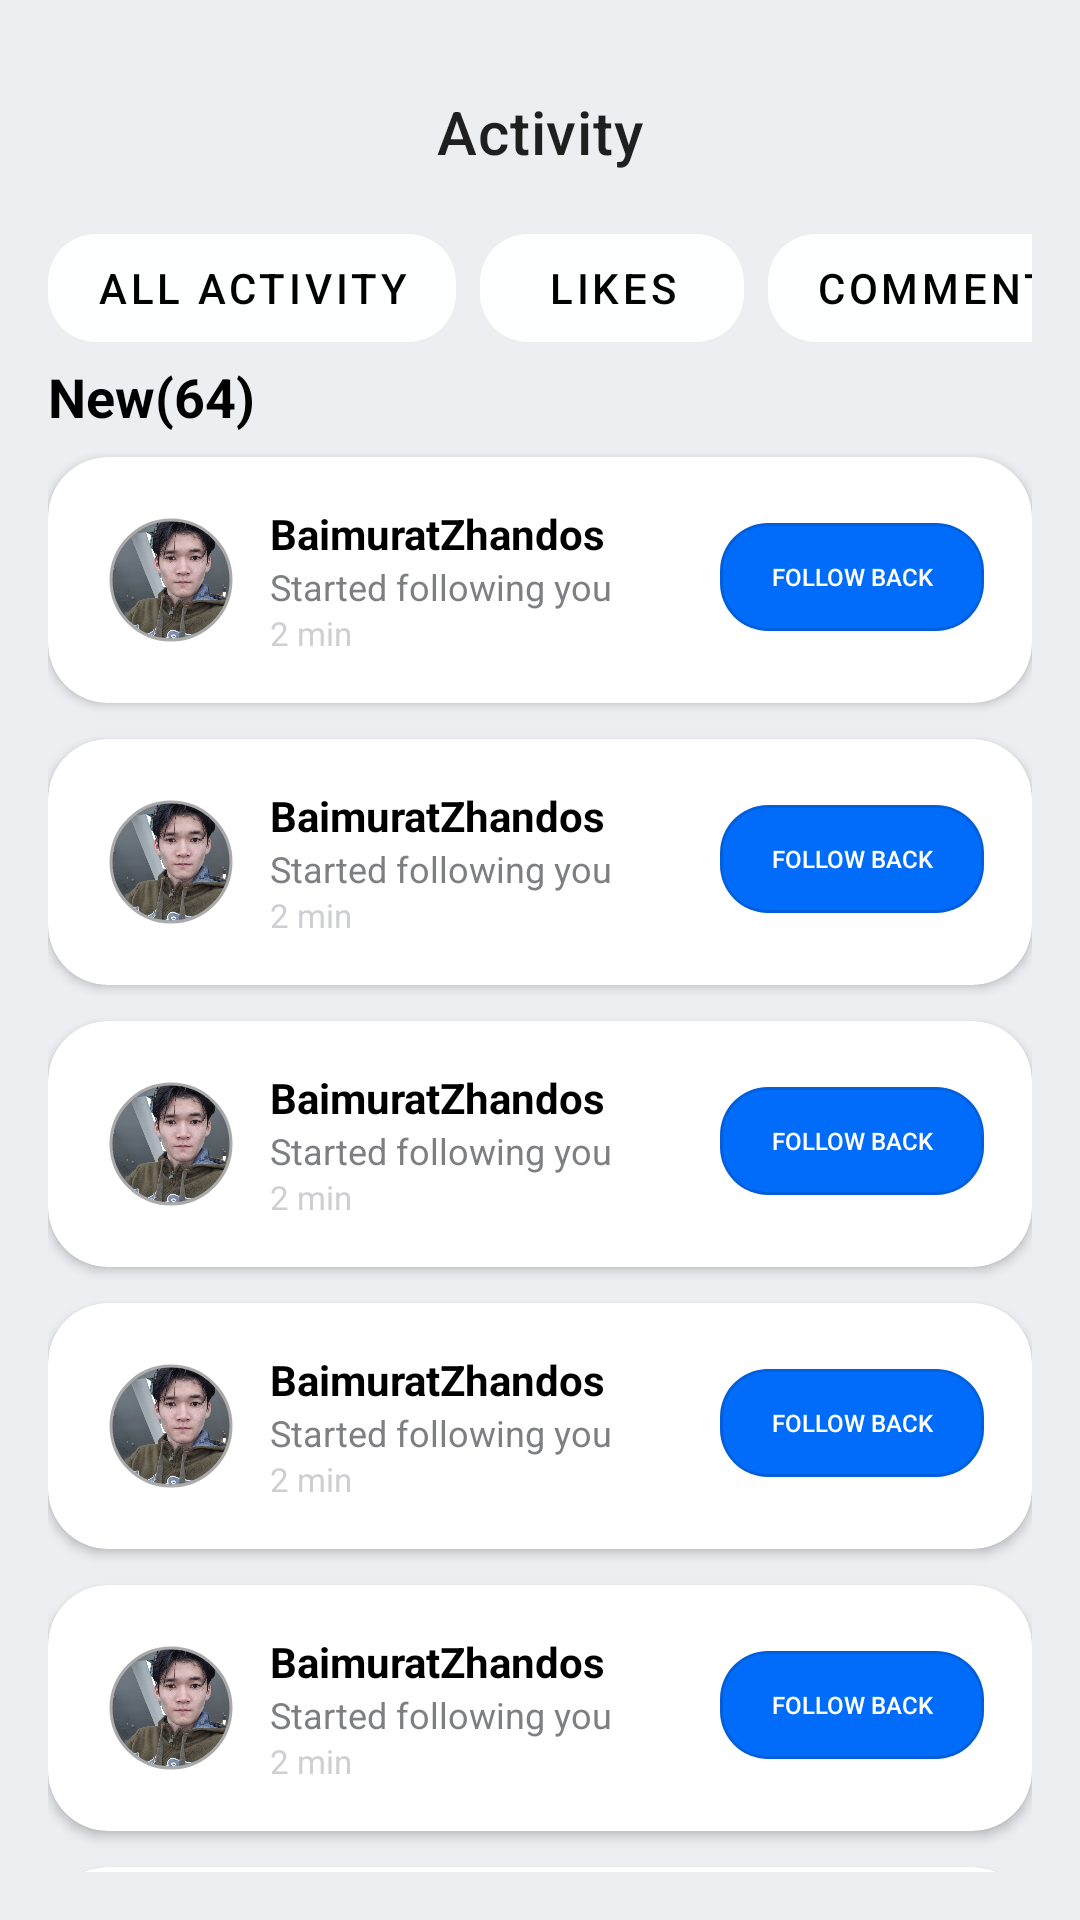

Where to tap for icons on this 1080x1920 app screen, as [x,y]:
ava: [171,580], [171,862], [171,1144], [171,1426], [171,1708]
